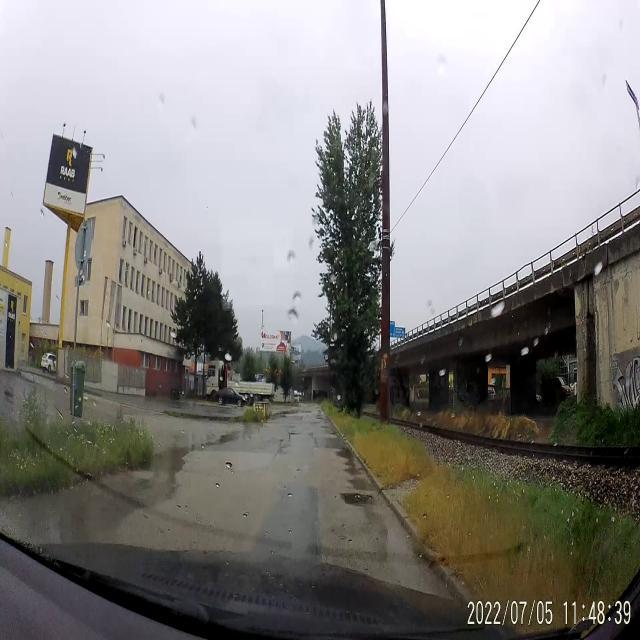Manhole: (340, 486, 374, 512)
Pothole: (285, 428, 301, 443), (315, 414, 323, 422)
